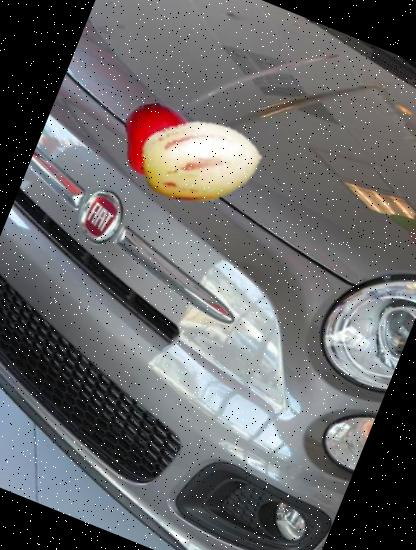Cherry: (110, 92, 206, 188)
Pepino: (121, 82, 280, 242)
